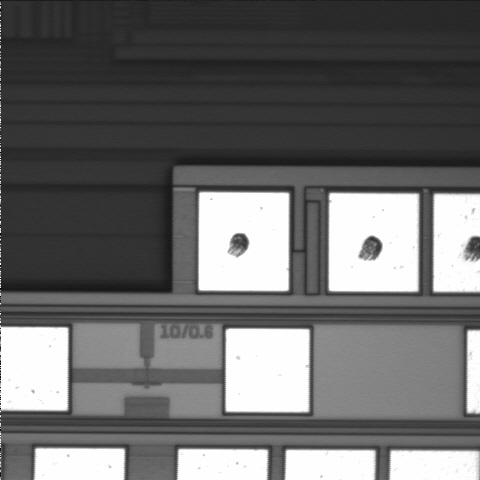pad: (199, 192, 289, 291), (329, 193, 419, 292), (226, 329, 309, 412)
